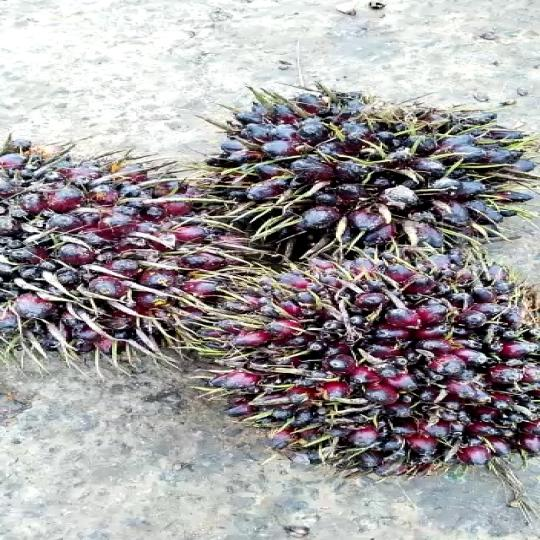kurang masak: (195, 264, 540, 464), (191, 87, 540, 277), (0, 149, 250, 359)
